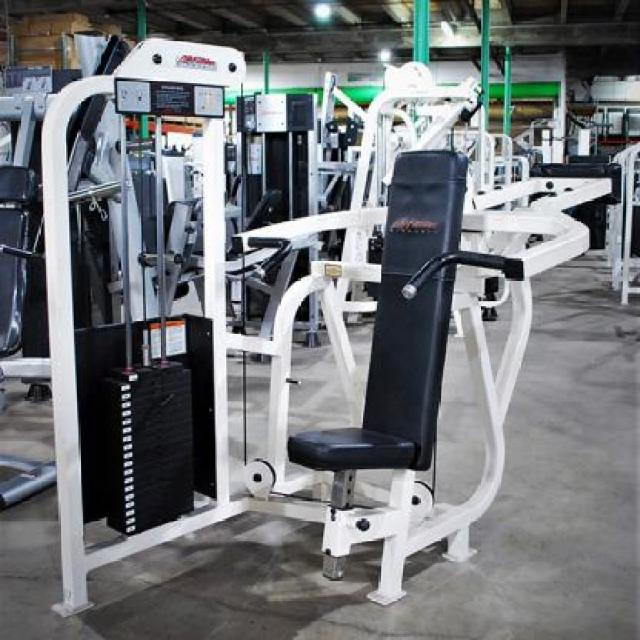shoulder press machine: (228, 151, 623, 611)
